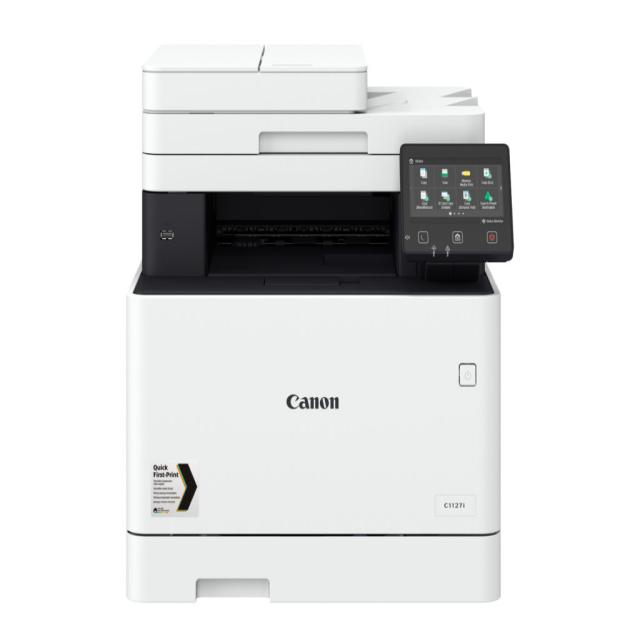printer: (124, 37, 514, 601)
